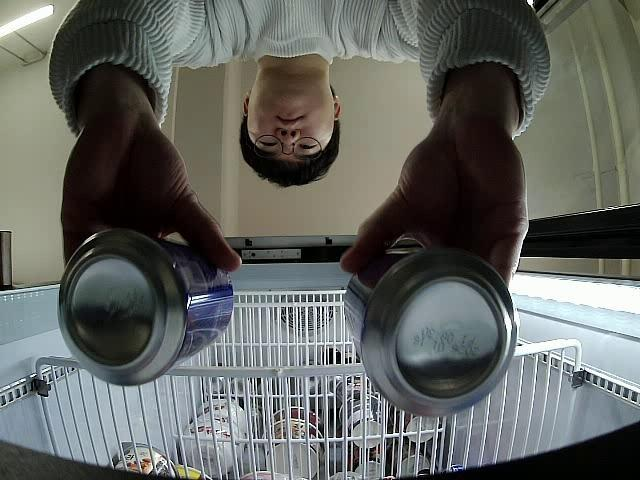14_welchsGrape: (342, 244, 516, 414), (55, 230, 229, 389)
